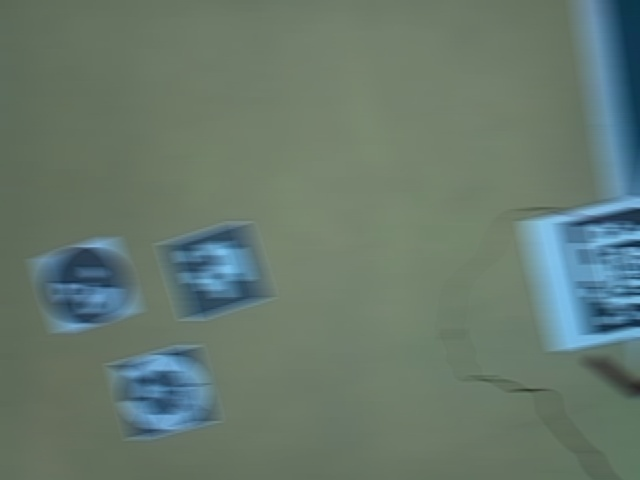landing-zone: (105, 343, 229, 442)
